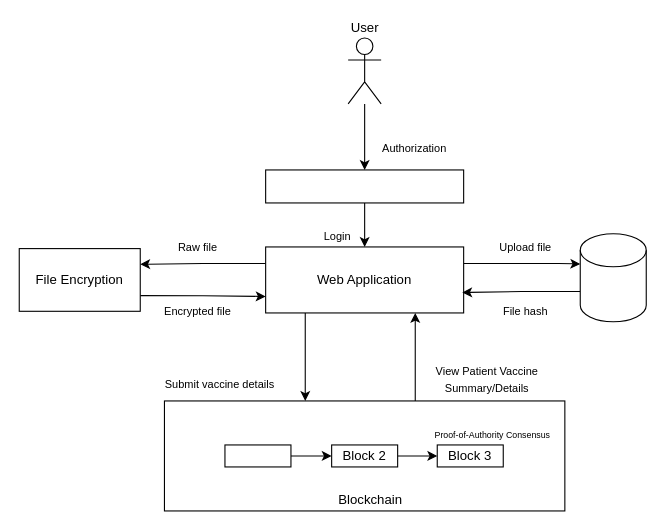
The diagram is 666 pixels wide and 530 high, and some of its shapes have lost their labels. Each missing label, with the centre of its shape:
Authority: pixel 364 186
Block 1: pixel 257 455
IPFS: pixel 612 277
